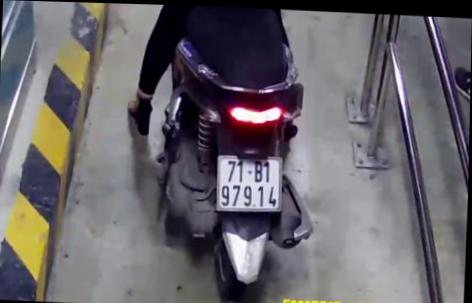LP: (215, 152, 285, 211)
